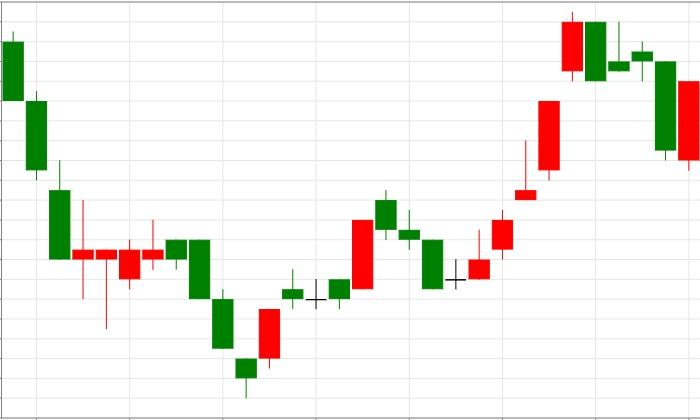morning_star_rise: (142, 220, 279, 398)
